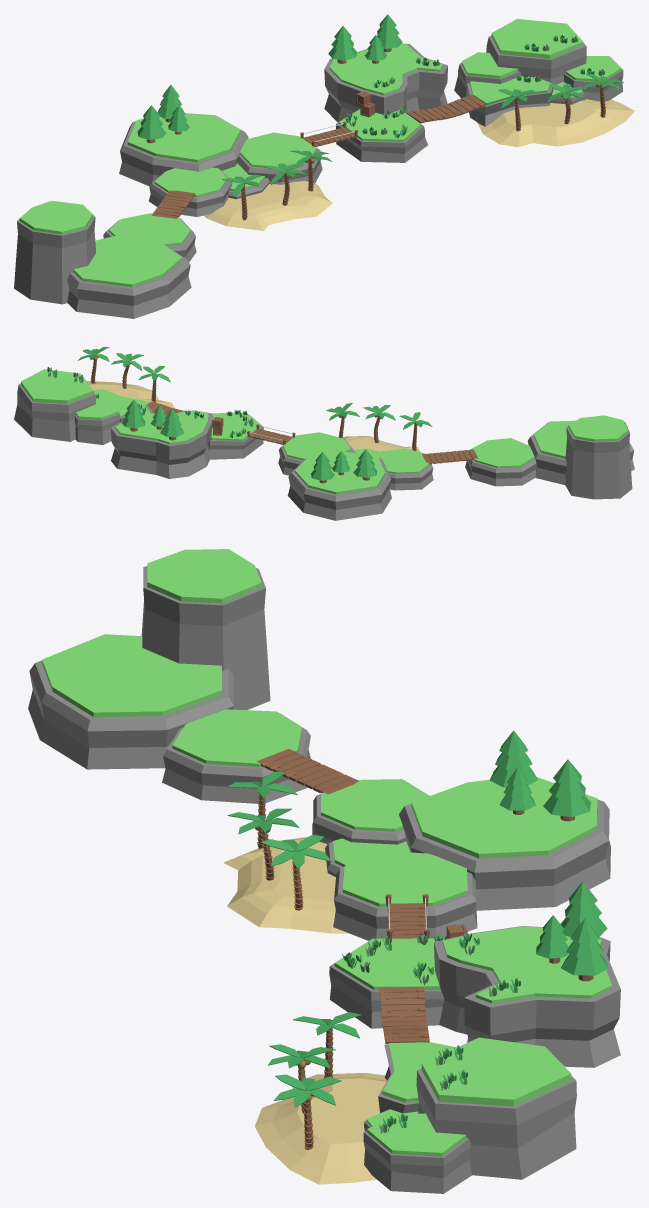
Rendered from ModelisationLevelPlatformer_ExportGodot2.glb.
3 renders of one model, top to bottom at view 1: azimuth 30°, elevation 25°; view 2: azimuth 150°, elevation 25°; view 3: azimuth 270°, elevation 25°, orthographic. The views are drawn at different scales.
Parts seen in each view (by area): view 1: LevelPlatformer; view 2: LevelPlatformer; view 3: LevelPlatformer.
Boxes of the visible parts, x1,y1,x2,y2 form: LevelPlatformer: (14,14,634,318); LevelPlatformer: (14,347,634,520); LevelPlatformer: (28,549,620,1193).
Size of the model in its own units: 18.13 by 2.21 by 8.49.
